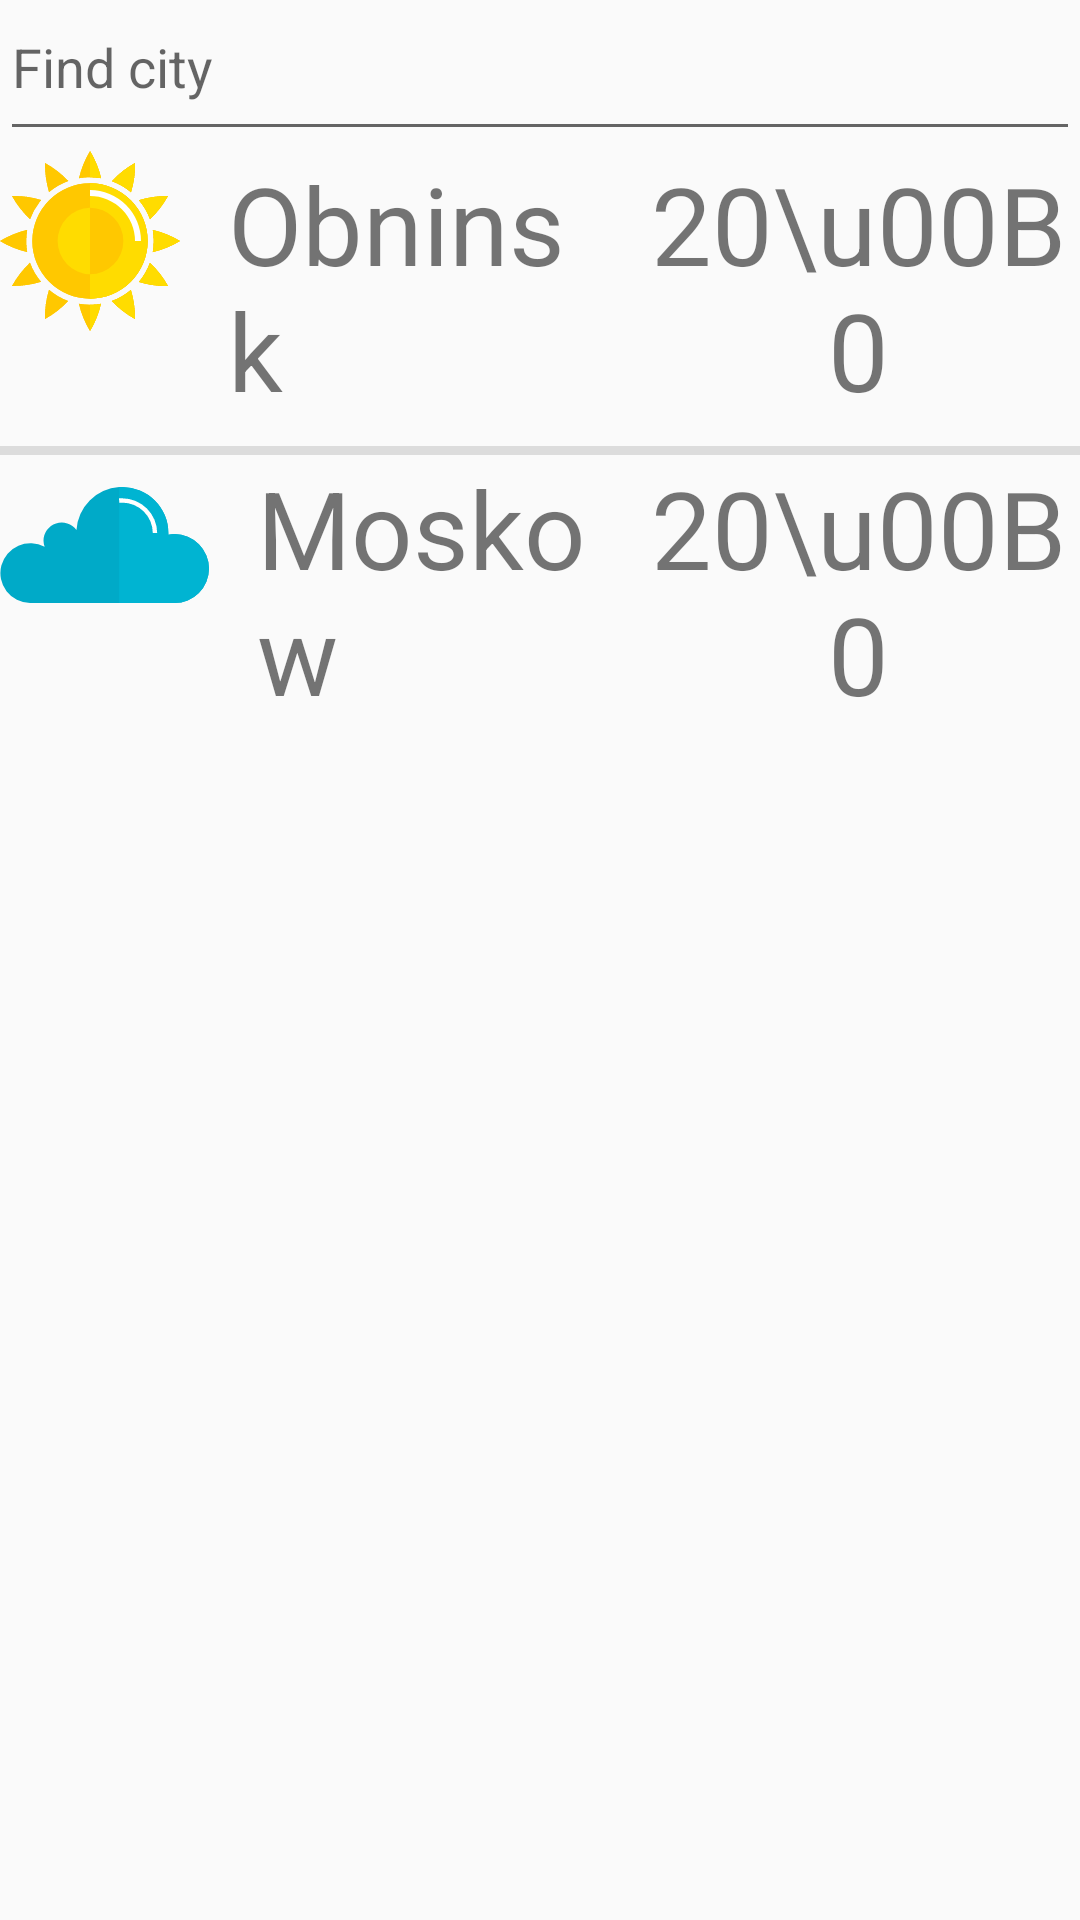

Icons on this 1080*1920 Android screen, each with the point to tap as point (x, y):
cloudy: point (104, 545)
sunny: point (90, 241)
